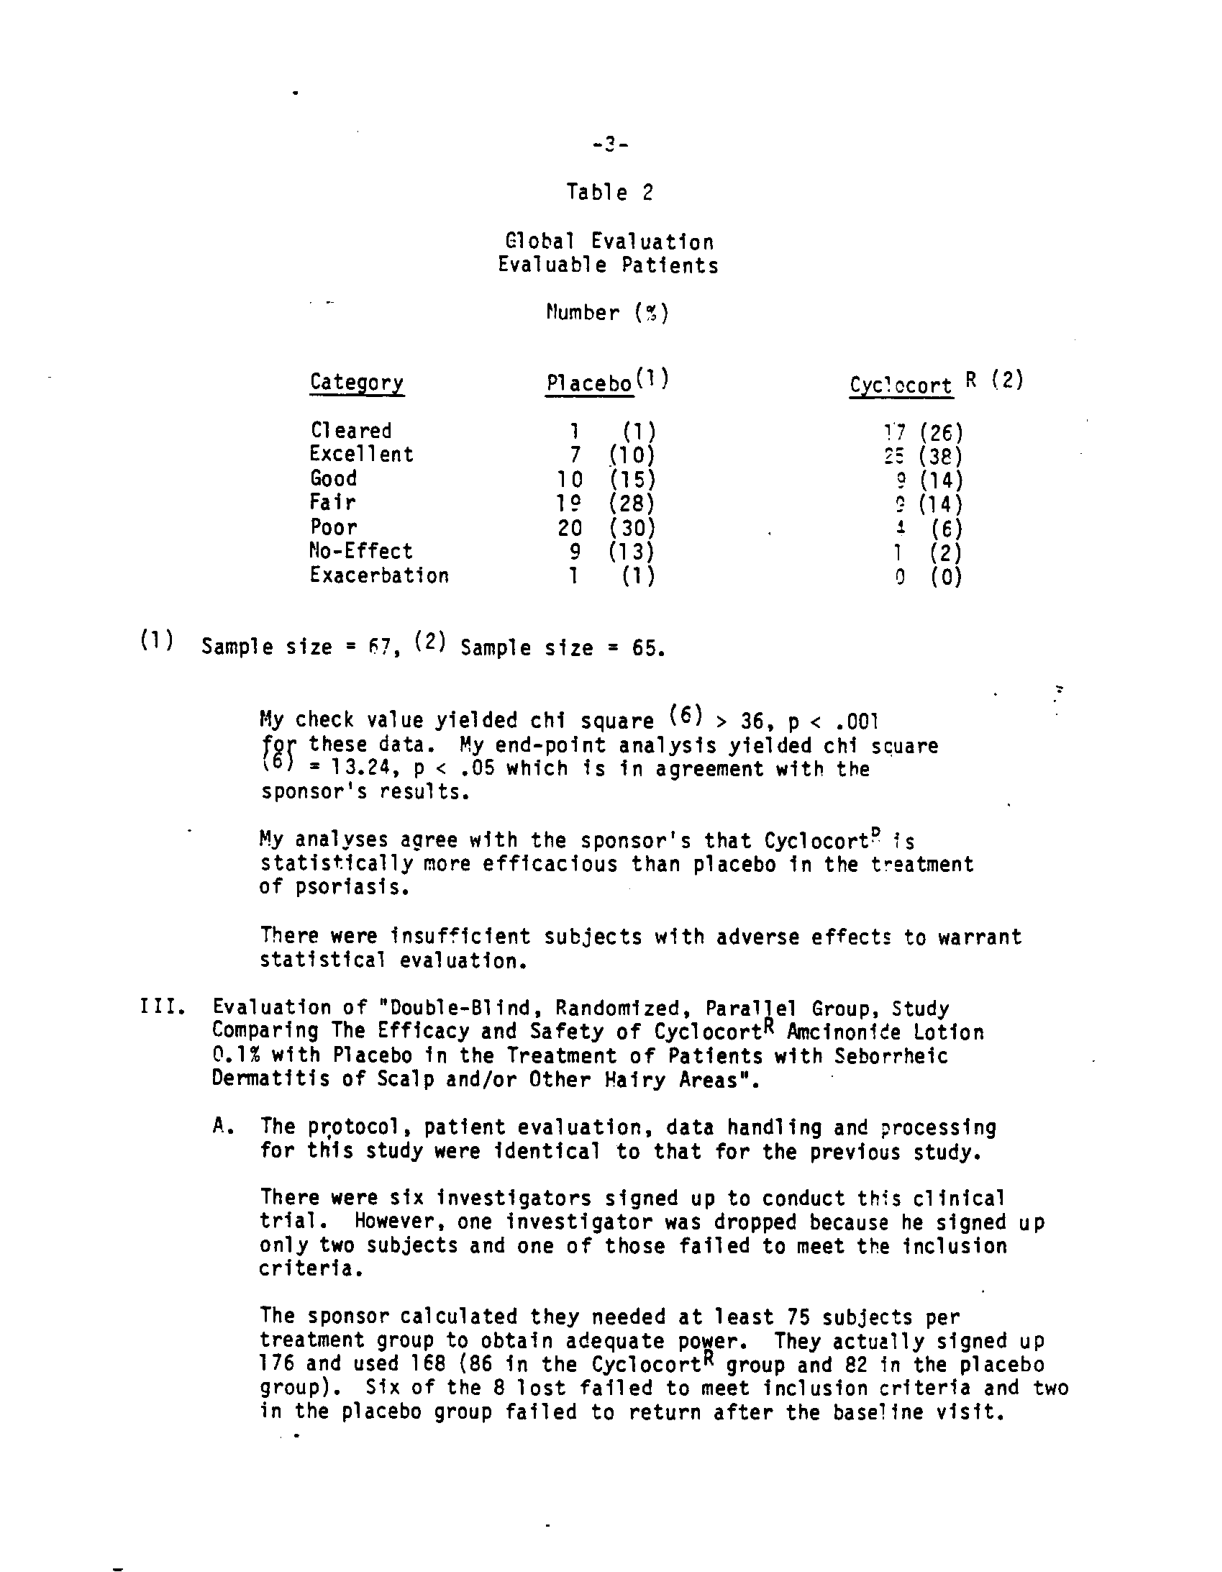nolines: (307, 367, 1027, 592)
